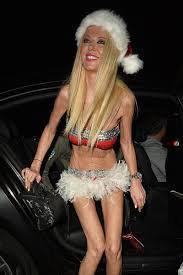Drunk: (80, 31, 108, 68)
